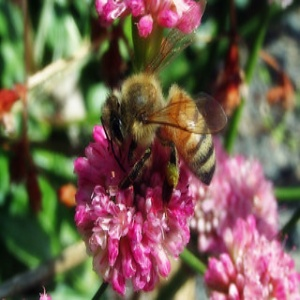bee: (99, 71, 229, 193)
